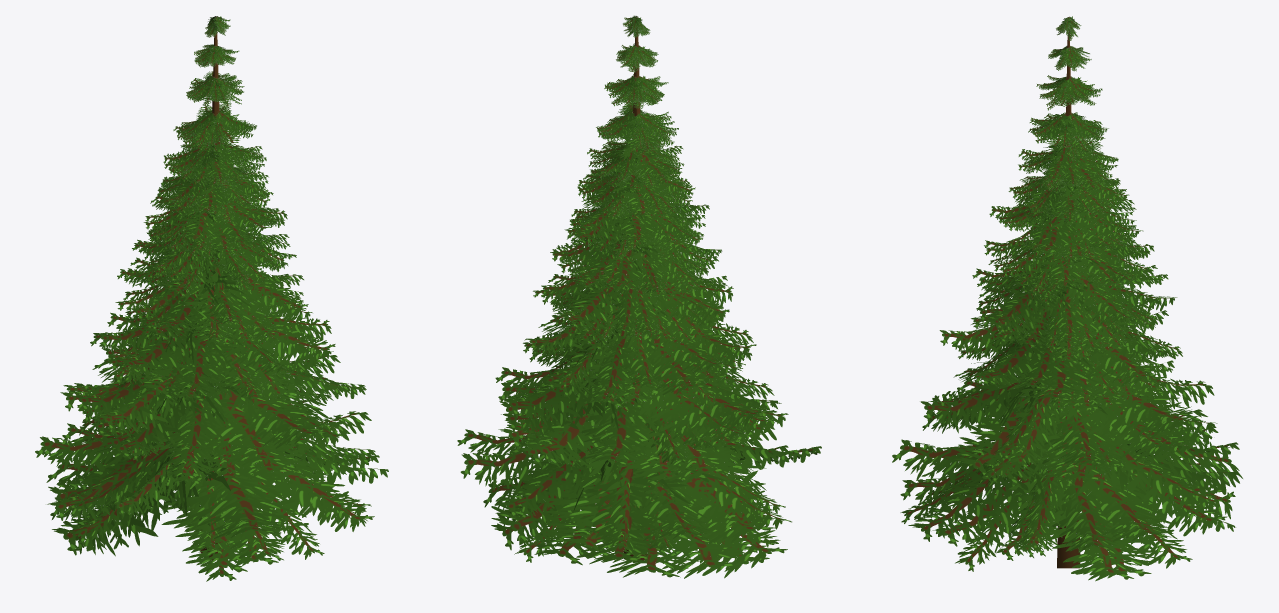
The model's file is tree.fbx.
3 renders of one model, left to right at view 1: azimuth 30°, elevation 25°; view 2: azimuth 150°, elevation 25°; view 3: azimuth 270°, elevation 25°, orthographic.
Parts seen in each view (by area): view 1: pineleaves.014, pineleaves.013, pineleaves.074, pineleaves.054, pineleaves.068, pineleaves.011, pineleaves.111, pineleaves.098, pineleaves.005, pineleaves.034, pineleaves.103, pineleaves.051 (+53 smaller); view 2: pineleaves.039, pineleaves.032, pineleaves.079, pineleaves.019, pineleaves.005, pineleaves.072, pineleaves.022, pineleaves.031, pineleaves.006, pineleaves.021, pineleaves.029, pineleaves.056 (+56 smaller); view 3: pineleaves.013, pineleaves.006, pineleaves.032, pineleaves.056, pineleaves.063, pineleaves.007, pineleaves.054, pineleaves.026, pineleaves.022, pineleaves.057, pineleaves.014, pineleaves.067 (+52 smaller).
Boxes of the visible parts, bbox=[...] form: pineleaves.014: bbox=[160, 430, 322, 538]; pineleaves.013: bbox=[211, 440, 374, 531]; pineleaves.074: bbox=[176, 364, 314, 465]; pineleaves.054: bbox=[202, 378, 329, 448]; pineleaves.068: bbox=[165, 349, 256, 464]; pineleaves.011: bbox=[52, 462, 230, 556]; pineleaves.111: bbox=[114, 326, 243, 379]; pineleaves.098: bbox=[167, 326, 255, 399]; pineleaves.005: bbox=[35, 434, 157, 473]; pineleaves.034: bbox=[159, 424, 313, 568]; pineleaves.103: bbox=[234, 308, 335, 370]; pineleaves.051: bbox=[95, 362, 239, 454]; pineleaves.039: bbox=[556, 430, 726, 564]; pineleaves.032: bbox=[494, 425, 645, 518]; pineleaves.079: bbox=[579, 380, 677, 466]; pineleaves.019: bbox=[534, 432, 706, 560]; pineleaves.005: bbox=[602, 444, 710, 538]; pineleaves.072: bbox=[520, 387, 660, 468]; pineleaves.022: bbox=[491, 448, 669, 546]; pineleaves.031: bbox=[588, 434, 775, 539]; pineleaves.006: bbox=[460, 440, 615, 498]; pineleaves.021: bbox=[588, 436, 774, 543]; pineleaves.029: bbox=[564, 449, 725, 577]; pineleaves.056: bbox=[499, 361, 642, 424]; pineleaves.013: bbox=[908, 433, 1067, 541]; pineleaves.006: bbox=[1026, 446, 1171, 541]; pineleaves.032: bbox=[1072, 442, 1225, 513]; pineleaves.056: bbox=[1038, 348, 1198, 438]; pineleaves.063: bbox=[952, 344, 1107, 482]; pineleaves.007: bbox=[1049, 452, 1140, 552]; pineleaves.054: bbox=[920, 371, 1059, 437]; pineleaves.026: bbox=[1021, 452, 1146, 580]; pineleaves.022: bbox=[1050, 440, 1227, 536]; pineleaves.057: bbox=[1004, 364, 1079, 469]; pineleaves.014: bbox=[892, 439, 1030, 499]; pineleaves.067: bbox=[1008, 377, 1152, 482].
Size of the model in its own units: 1173 by 1703 by 1114.
2 materials, 2 textured.
